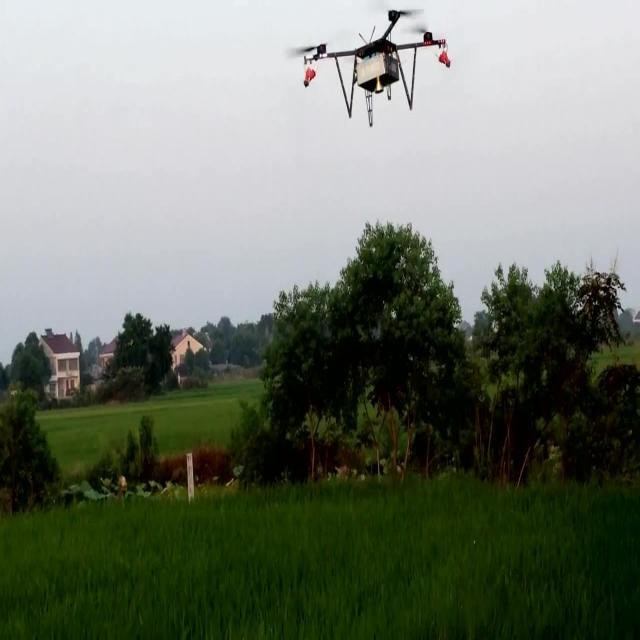UAV: (288, 9, 451, 127)
